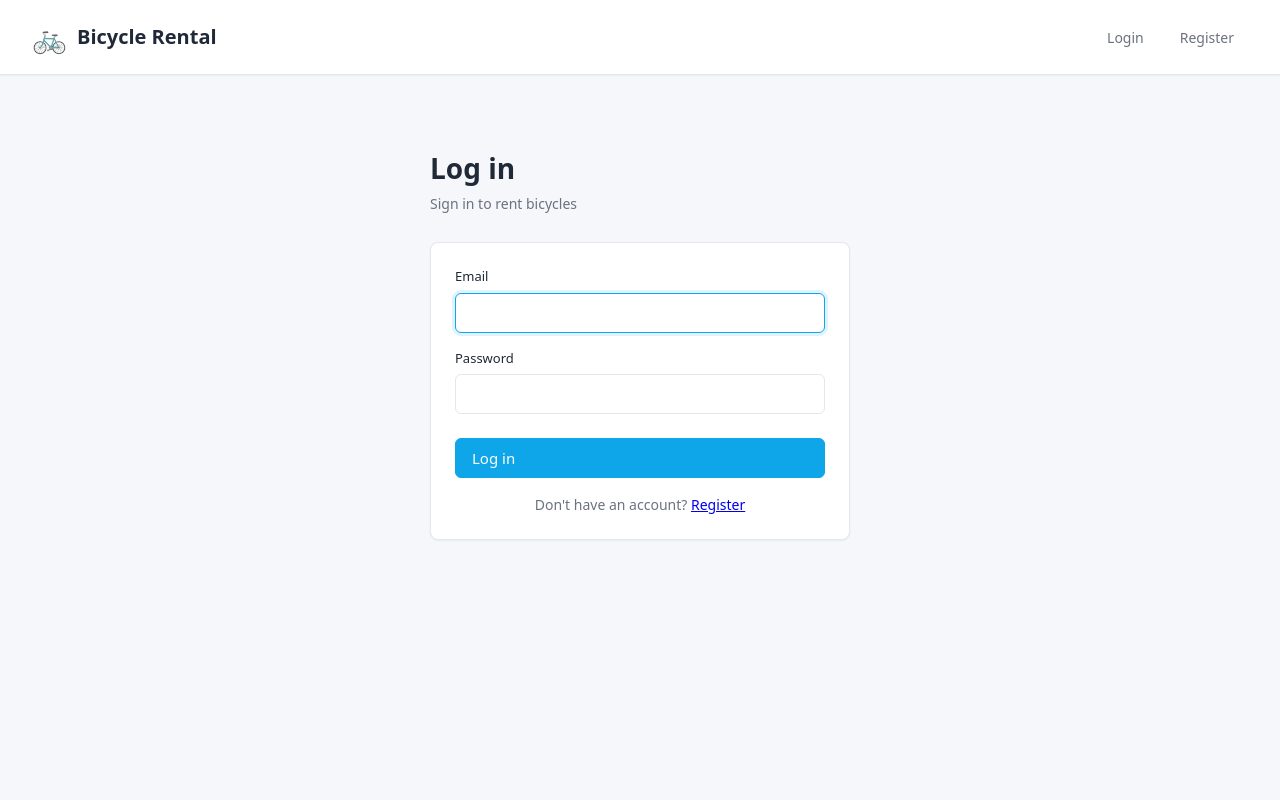
Test: Authentication › shows an error and stays on login page with wrong password
The width and height of the screenshot is (1280, 800).
Type "e2e_auth@test.com" into the field at [640, 313], box [455,293,825,333]
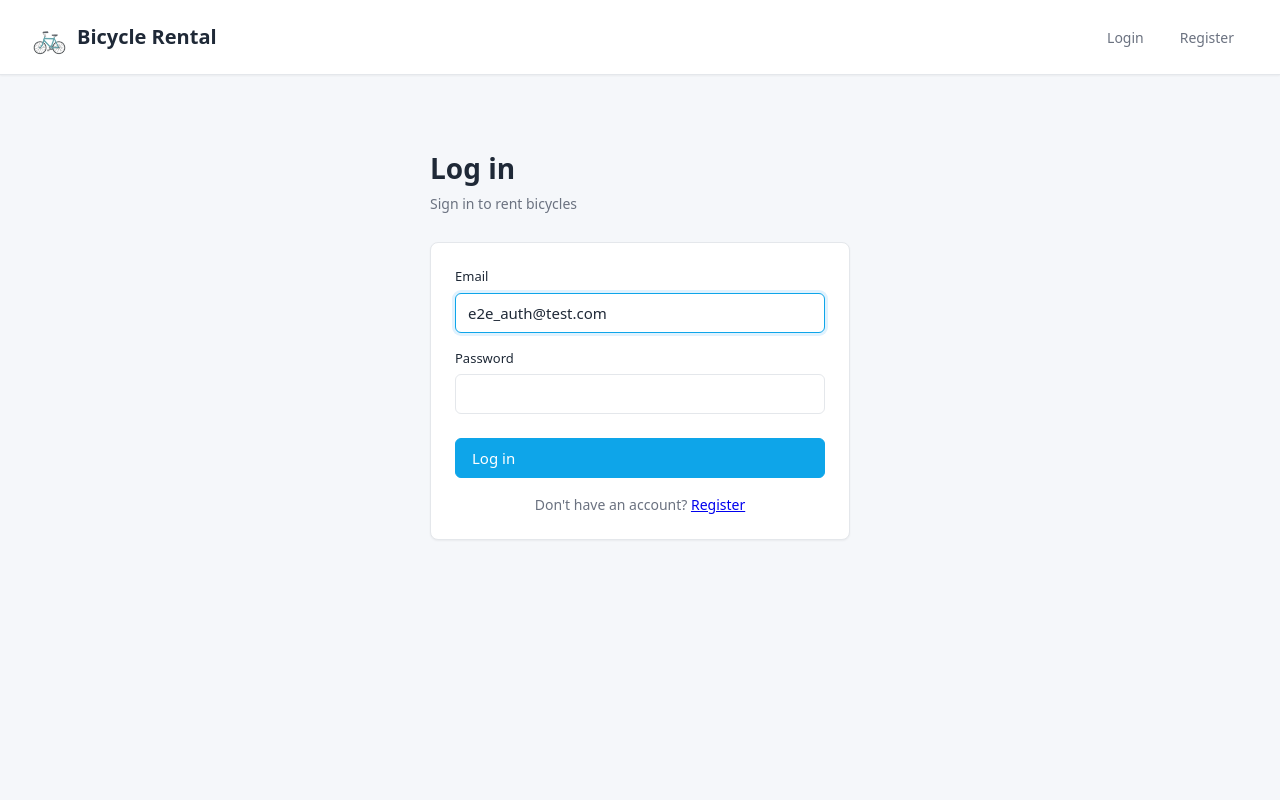
Type "wrongpassword" into the password field at [640, 394], box [455,374,825,414]
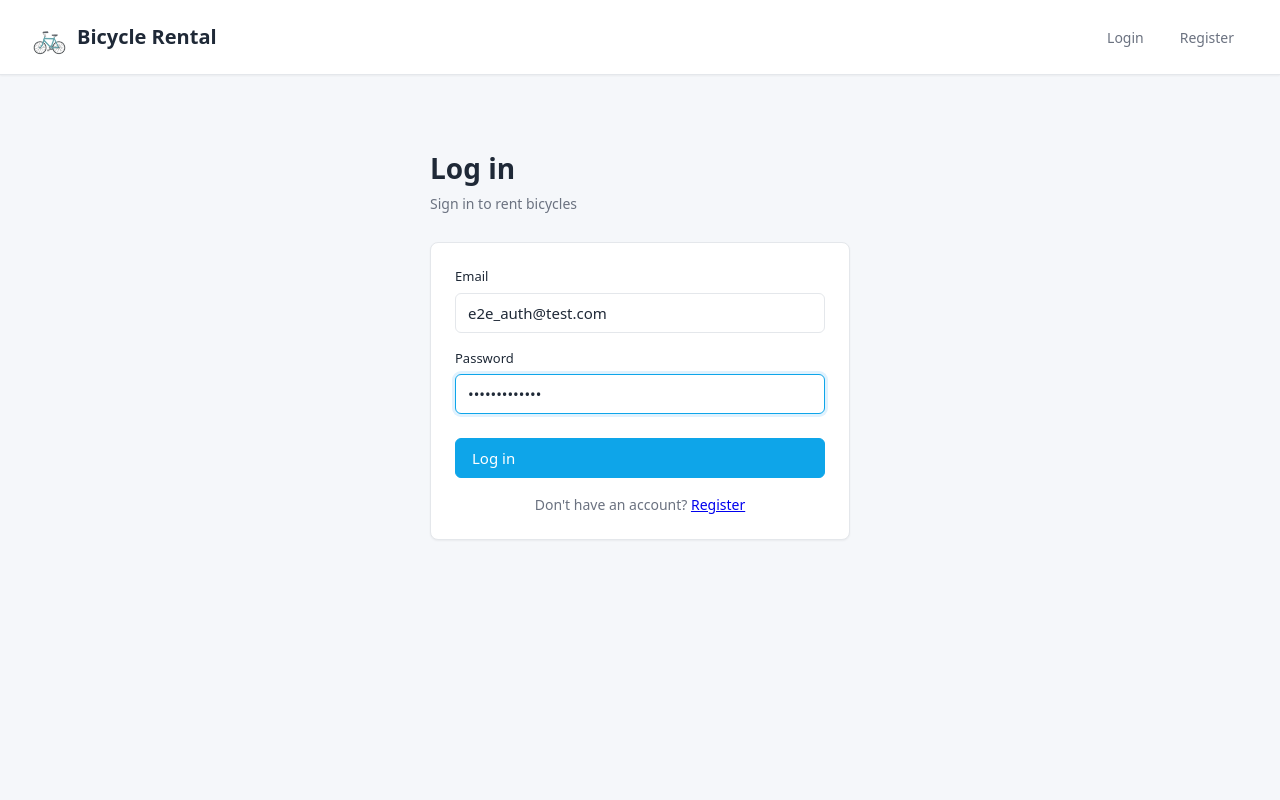
Click the submit button at [494, 458], box [455,438,825,478]
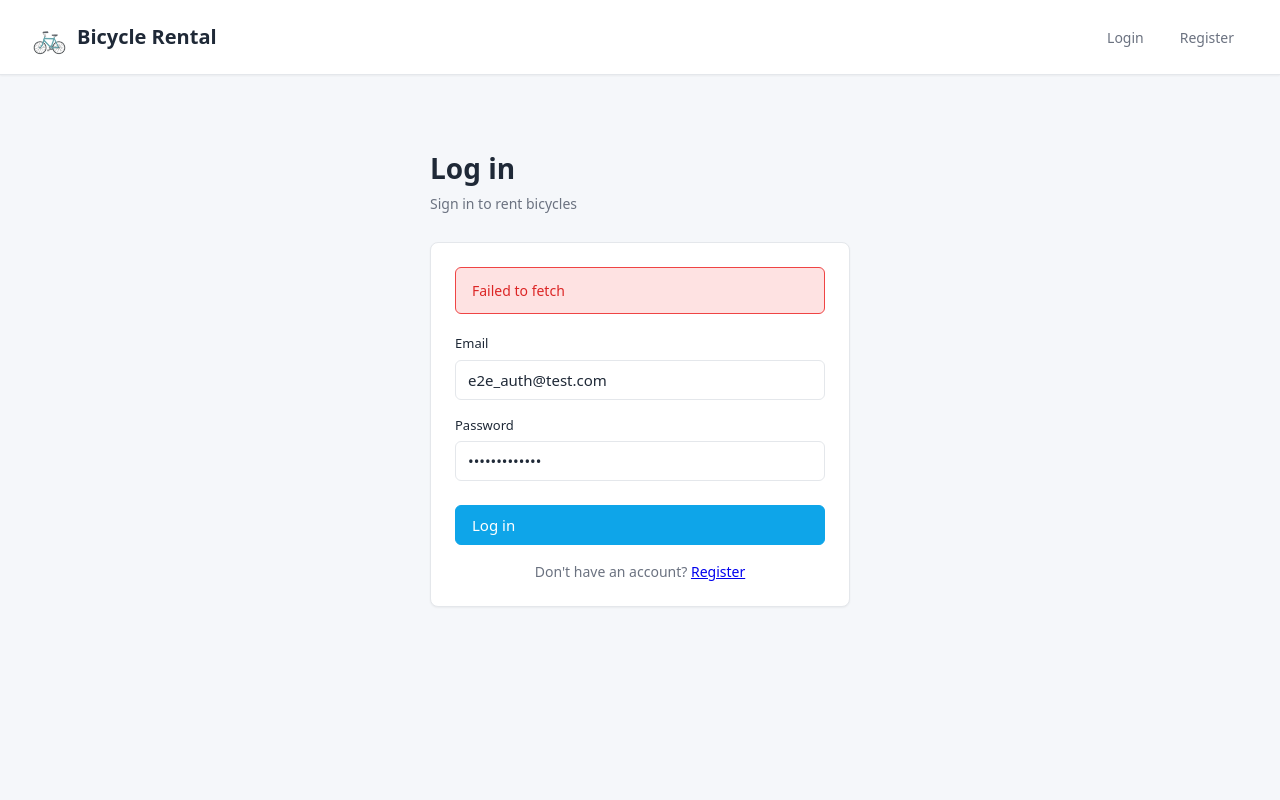
Expected: the text "Failed to fetch" is shown, [455,267,825,314]
